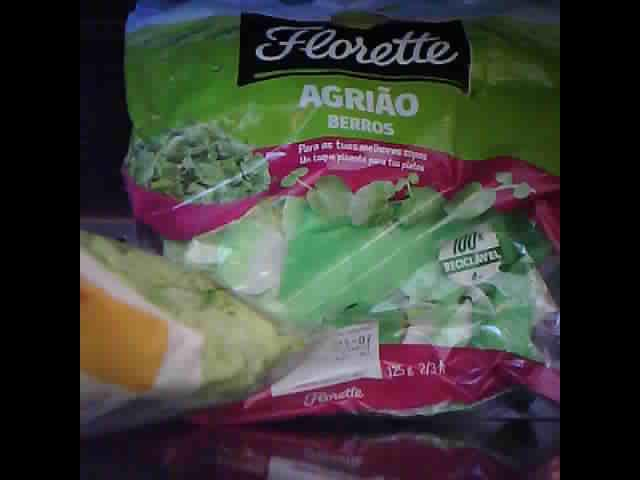florette: (117, 3, 561, 427), (81, 215, 314, 450)
